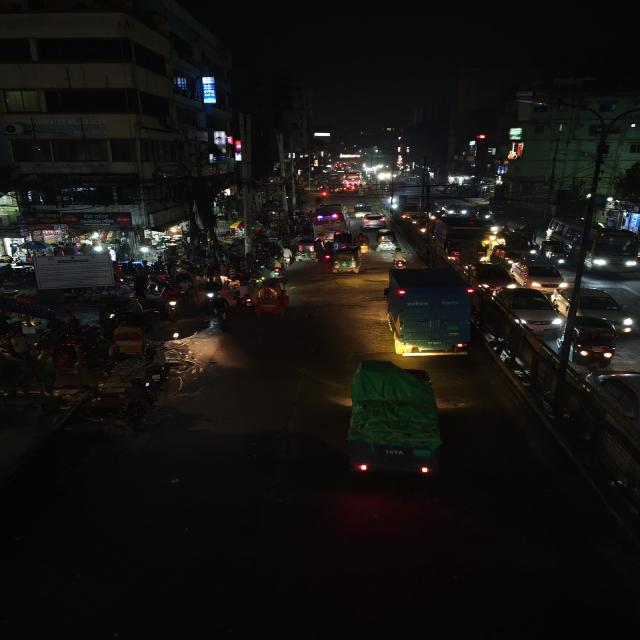bus: (548, 214, 640, 274), (312, 203, 349, 230)
car: (582, 367, 640, 445), (554, 287, 638, 331), (491, 287, 564, 332), (509, 259, 569, 291), (470, 262, 517, 294), (361, 213, 387, 228)
cng: (557, 320, 618, 366), (331, 246, 363, 276), (542, 240, 572, 264), (374, 228, 399, 253), (294, 236, 320, 258), (329, 230, 352, 250)
motorcycle: (238, 291, 256, 311), (391, 249, 408, 269)
pickup_van: (330, 366, 455, 490), (352, 202, 371, 218)
rickshaw: (104, 325, 151, 373), (252, 279, 293, 319)
truck: (382, 266, 474, 358), (428, 213, 495, 264)
